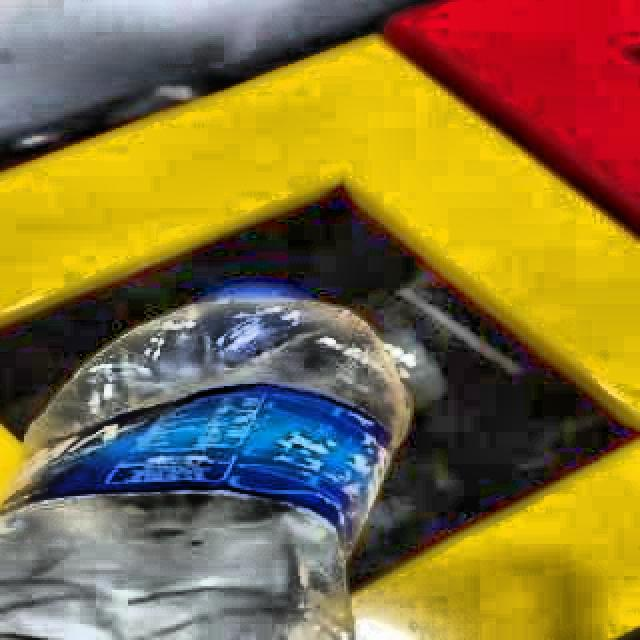plastic: (0, 290, 411, 640)
